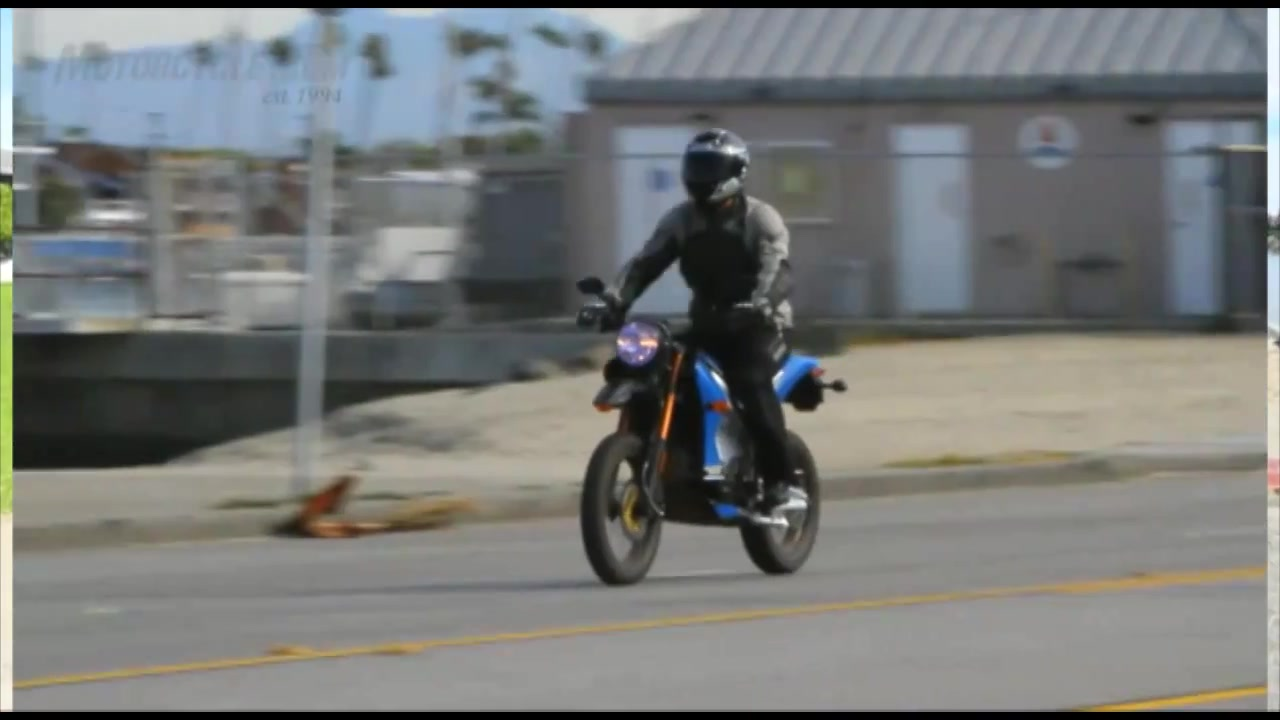motorbike: (573, 278, 851, 589)
